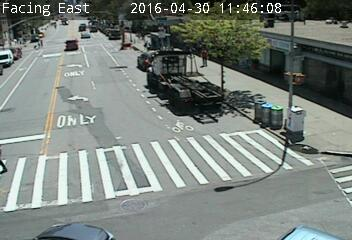neg: (290, 144, 325, 189), (3, 76, 34, 117), (60, 34, 85, 67), (58, 100, 81, 131), (157, 95, 179, 124), (128, 154, 150, 183), (158, 46, 179, 73), (297, 62, 317, 89), (194, 107, 214, 133), (75, 153, 93, 177), (270, 54, 288, 78), (213, 61, 230, 84), (191, 155, 207, 177), (242, 113, 258, 134), (111, 67, 126, 88), (257, 158, 272, 178), (256, 93, 271, 112), (270, 119, 283, 137)
pos: (196, 46, 213, 70)
